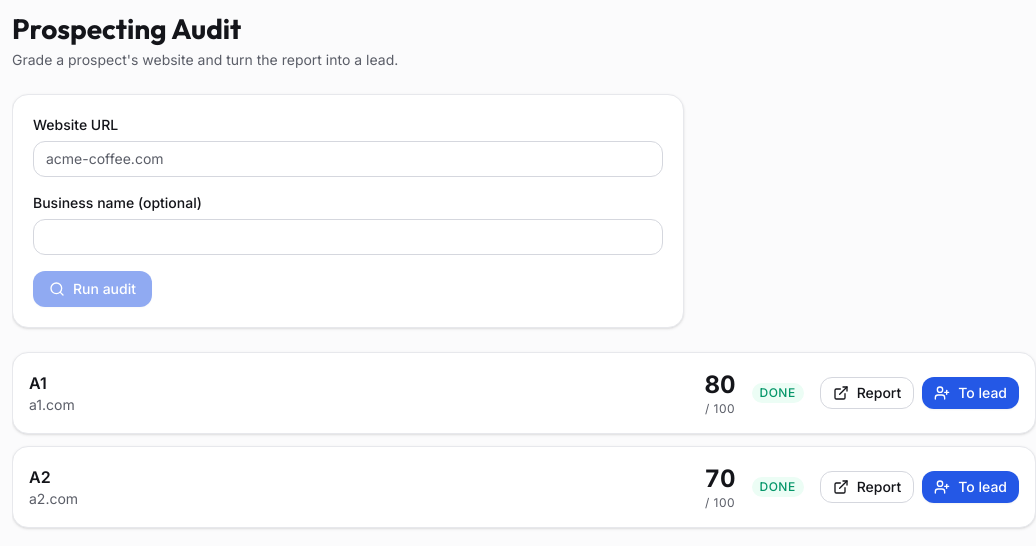
Test: ProspectingPage — per-audit convert loading › converting one audit only disables that audit's To-lead button
The width and height of the screenshot is (1036, 546).
Click the button "To lead" in the row of "80" at (971, 393), box [922,377,1019,409]
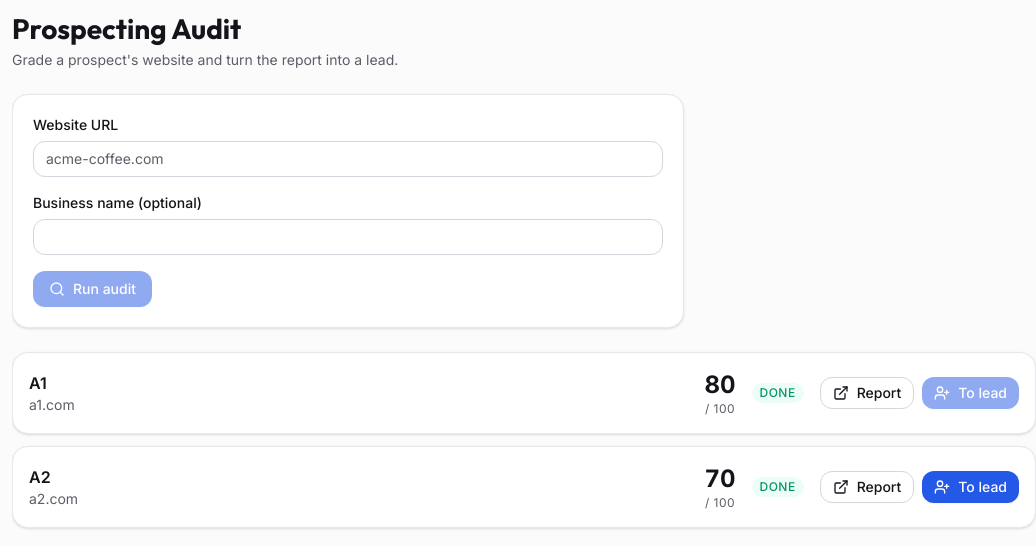
Expected: the button "To lead" in the row of "70" is enabled, [922,471,1019,503]
Expected: the button "To lead" in the row of "80" is disabled, [922,377,1019,409]
